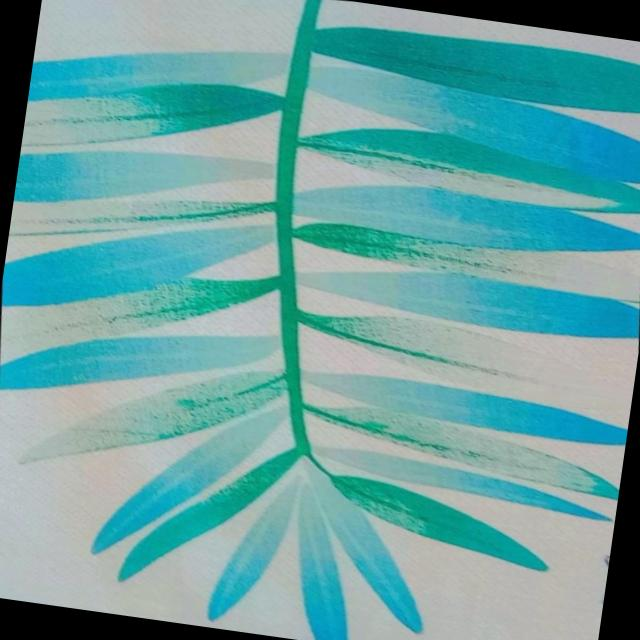color issues: (294, 106, 634, 240), (297, 382, 608, 508), (23, 21, 292, 166), (313, 203, 640, 322), (304, 295, 619, 418), (16, 349, 280, 482), (8, 164, 286, 276), (0, 250, 259, 364), (210, 456, 445, 580), (303, 33, 465, 136)
